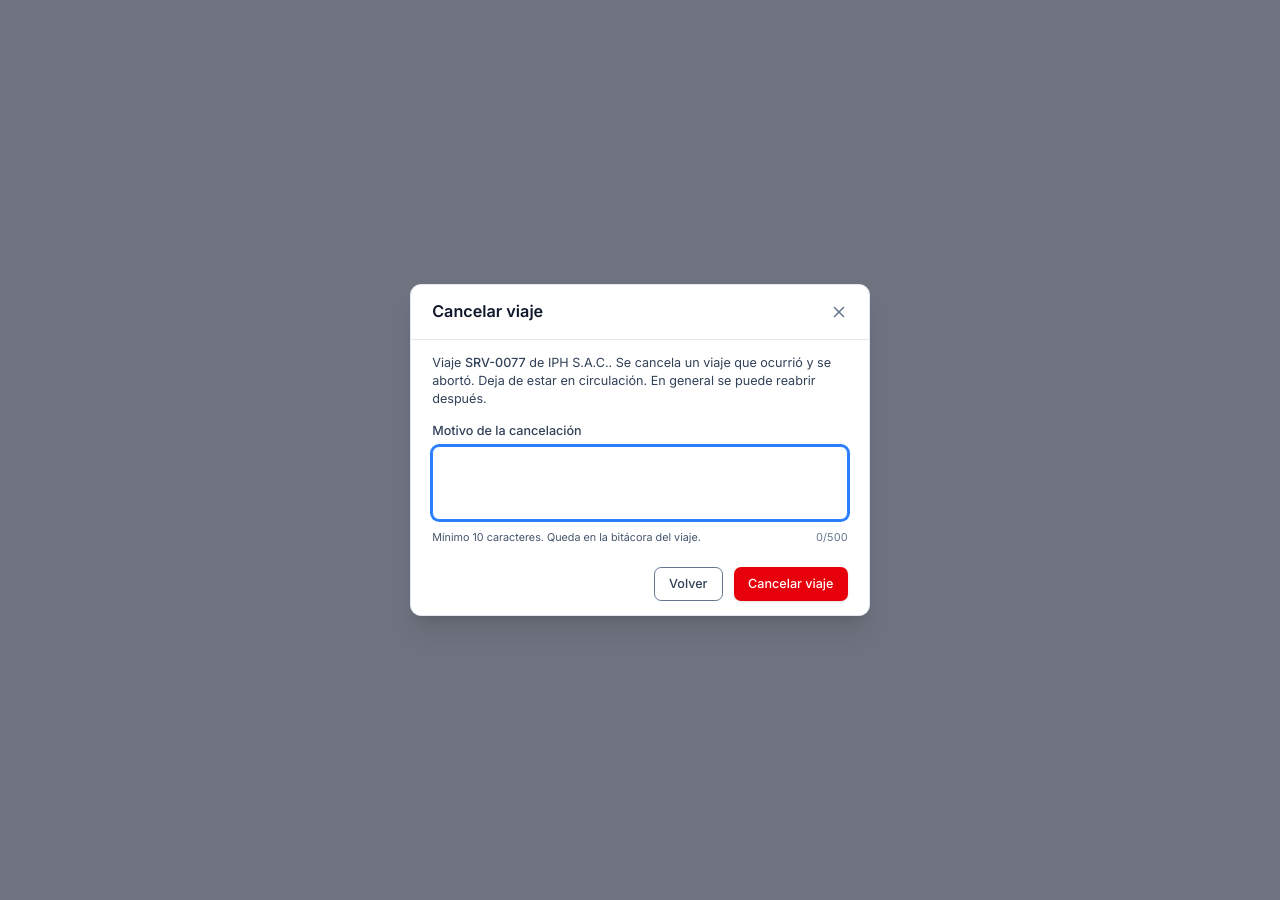
Test case: ServiceExitModal, los errores › muestra el detail del 412
The image size is (1280, 900).
Type "El cliente reprogramó la obra" into the text box labelled "Motivo de la cancelación".
click(640, 483); type("El cliente reprogramó la obra")  # box left=432, top=446, right=848, bottom=520
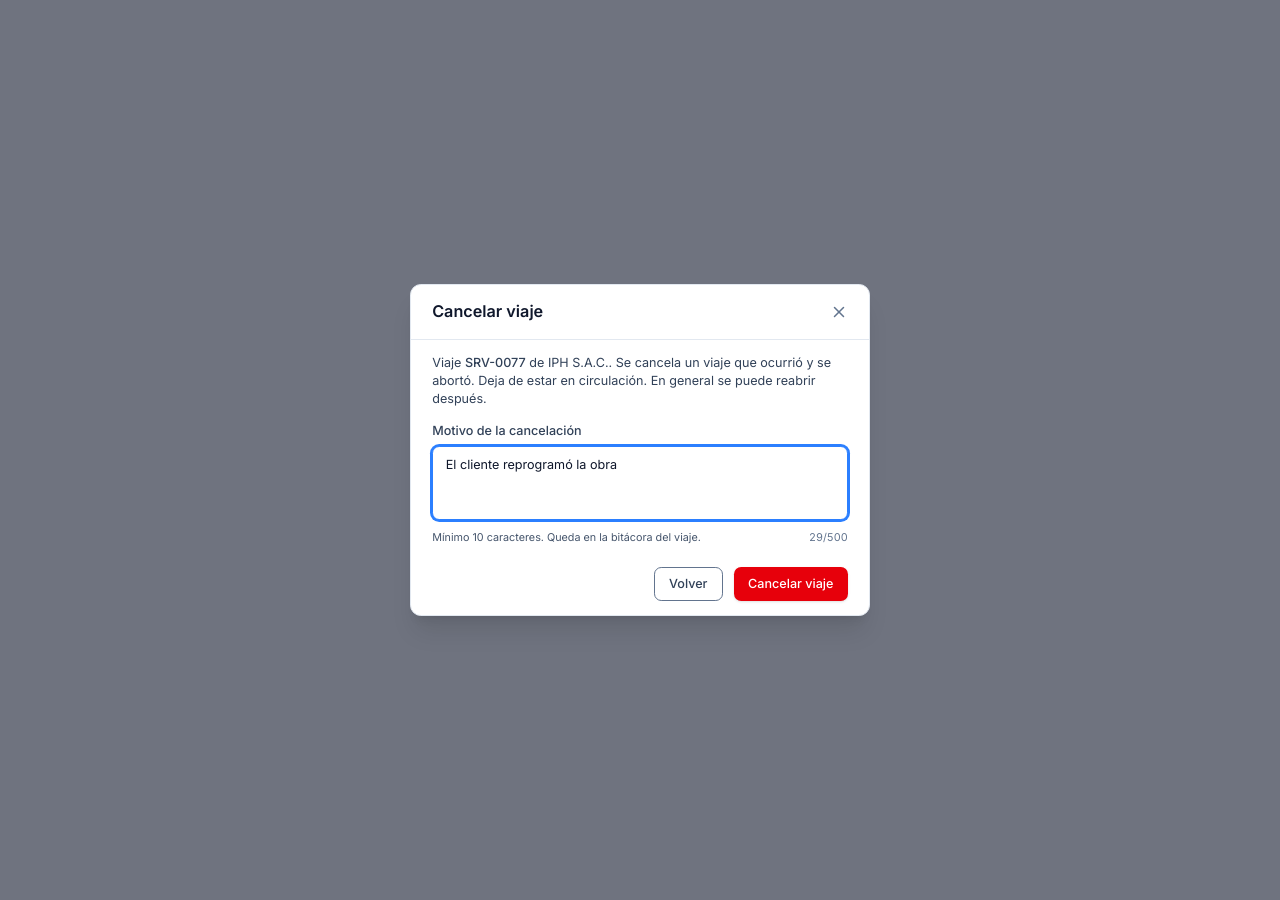
Click the button "Cancelar viaje".
click(791, 584)  # box left=734, top=567, right=848, bottom=601
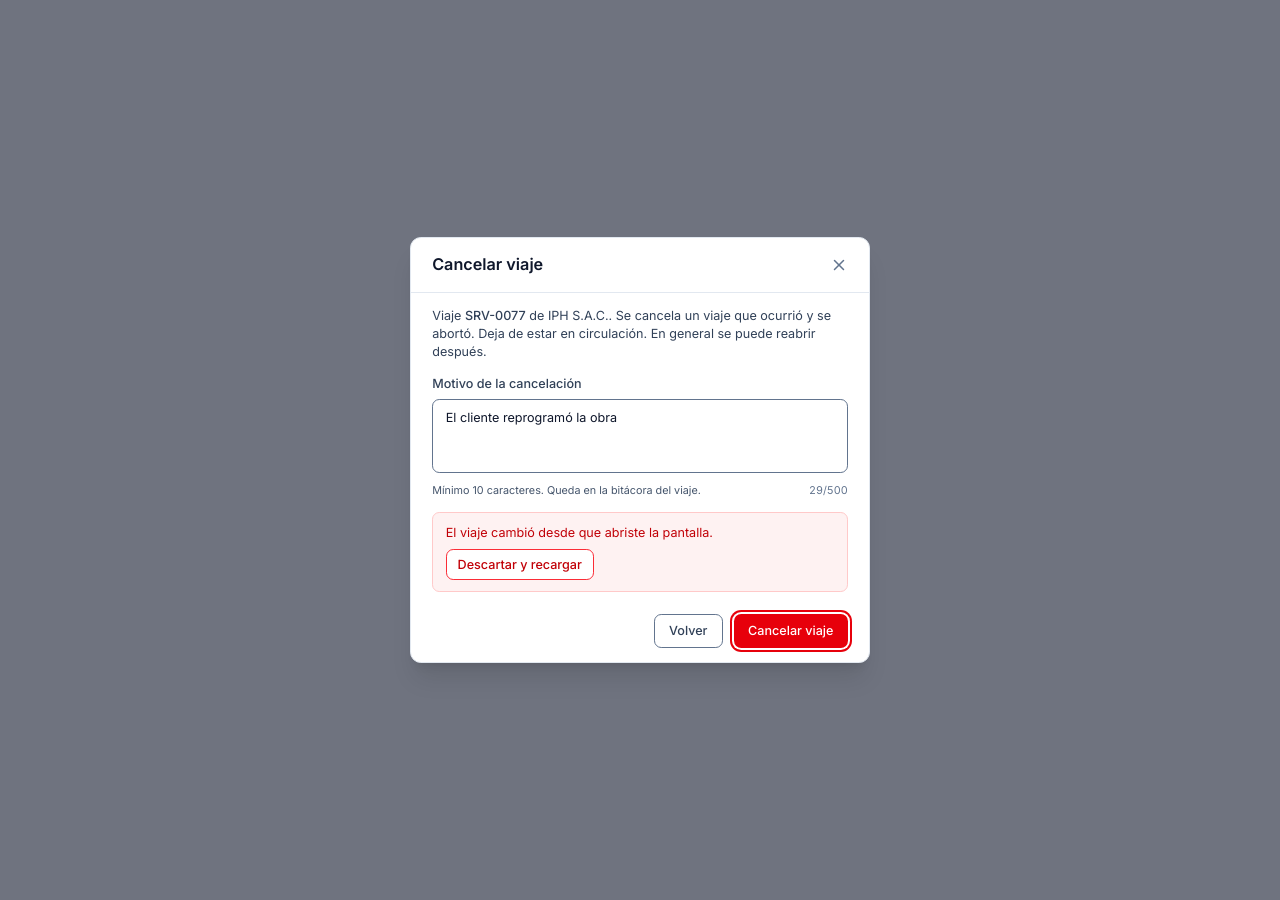
Expected: the text "El viaje cambió desde que abriste la pantalla." is shown, left=446, top=525, right=713, bottom=540
